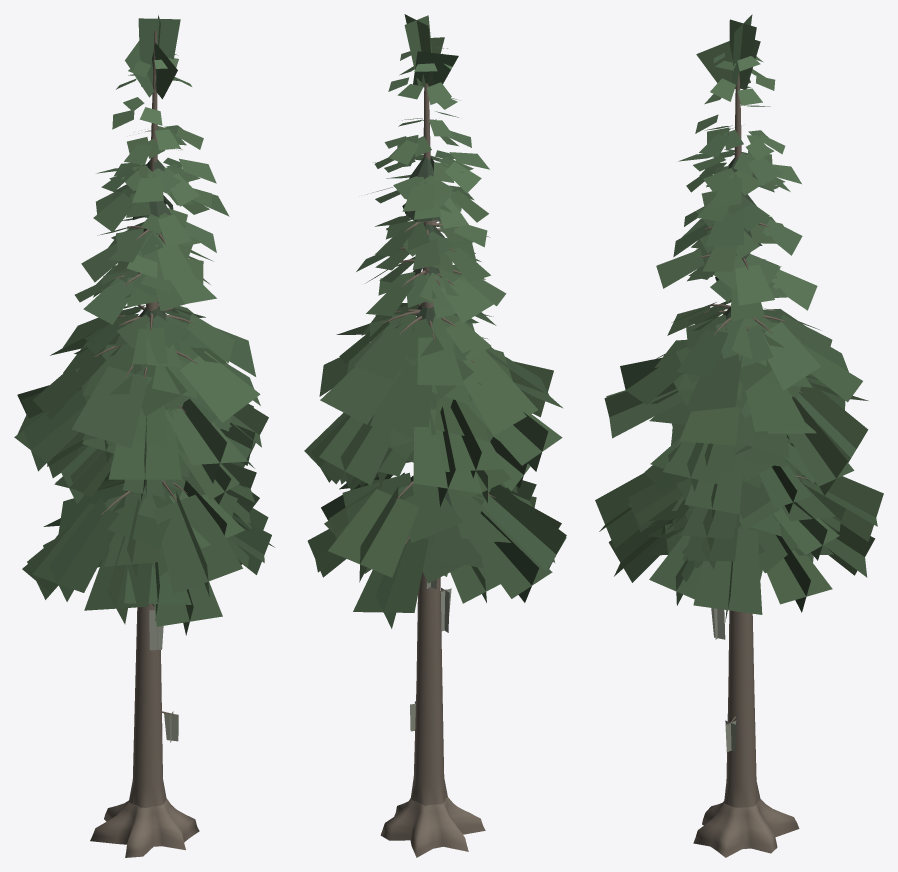
Rendered from fir_tall_moss.glb.
3 renders of one model, left to right at view 1: azimuth 30°, elevation 25°; view 2: azimuth 150°, elevation 25°; view 3: azimuth 270°, elevation 25°, orthographic.
Parts seen in each view (by area): view 1: fir_tall_moss; view 2: fir_tall_moss; view 3: fir_tall_moss.
Boxes of the visible parts, bbox=[...] form: fir_tall_moss: bbox=[14, 15, 274, 857]; fir_tall_moss: bbox=[304, 14, 566, 857]; fir_tall_moss: bbox=[595, 14, 883, 857].
Bounding box in the file's own units: 7.59 × 24.97 × 7.97.
